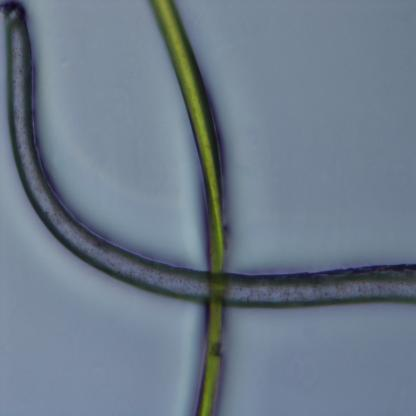Microfibre: (1, 0, 416, 306), (148, 1, 224, 415)
